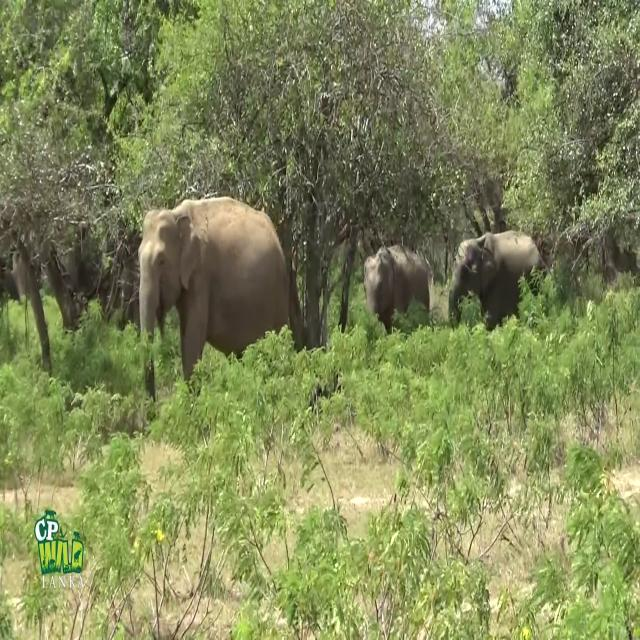Elephant: (138, 195, 290, 402), (448, 229, 554, 331), (363, 243, 434, 334)
